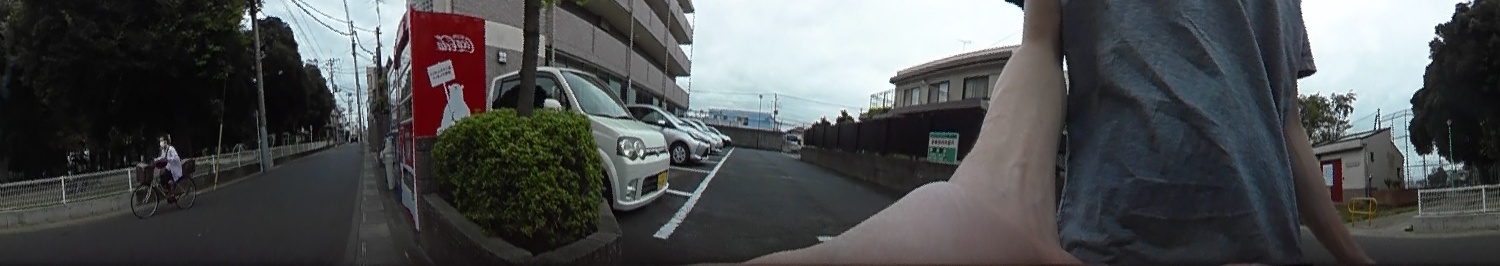person: (145, 136, 183, 202)
